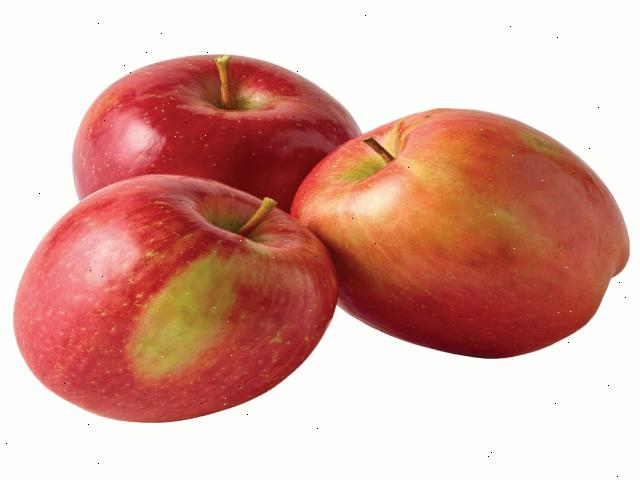apple: (287, 108, 631, 358), (14, 173, 340, 421), (70, 53, 367, 278)
